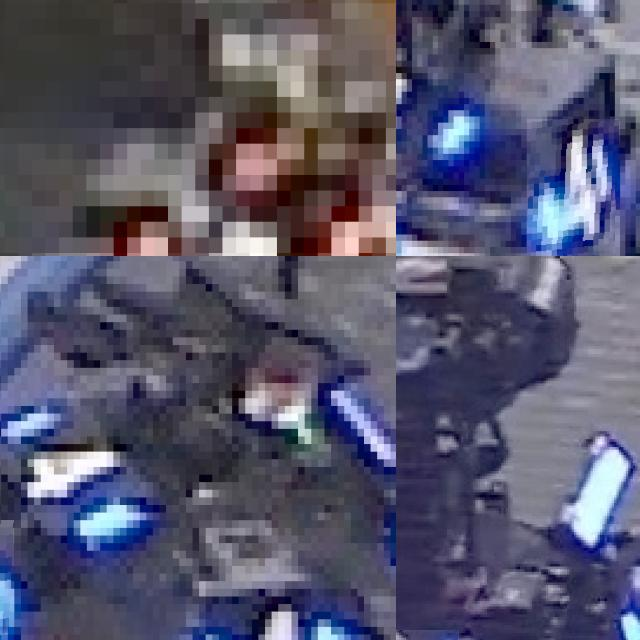B4: (526, 119, 620, 256), (396, 35, 466, 160), (199, 596, 344, 640)
